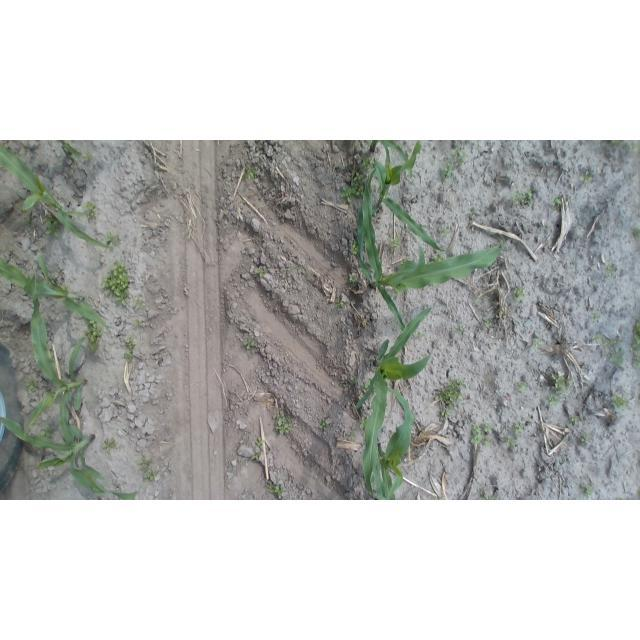Maize: (358, 207, 513, 324), (349, 297, 435, 500), (1, 387, 144, 499), (1, 143, 114, 251), (18, 302, 91, 445), (365, 142, 452, 261), (1, 252, 116, 330), (373, 385, 414, 500), (367, 140, 418, 177), (60, 141, 90, 164)
Weeds: (101, 259, 131, 305), (433, 377, 467, 417), (546, 373, 575, 408), (84, 318, 103, 354), (599, 337, 623, 364), (341, 172, 363, 201), (273, 413, 296, 438), (140, 456, 161, 483), (510, 187, 535, 207), (471, 422, 491, 446), (42, 214, 62, 238), (601, 337, 621, 356), (266, 482, 286, 499), (441, 161, 459, 179), (611, 393, 628, 410), (101, 436, 119, 452), (84, 202, 98, 222), (452, 147, 467, 165), (630, 321, 638, 351), (578, 171, 594, 186), (511, 287, 527, 302), (25, 376, 40, 392), (580, 482, 594, 499), (106, 233, 121, 248), (386, 236, 402, 250), (361, 155, 375, 171), (604, 263, 618, 278), (243, 167, 257, 181), (242, 338, 258, 350), (481, 421, 493, 437), (478, 492, 501, 500), (291, 261, 306, 273), (349, 239, 359, 256), (133, 297, 146, 310), (124, 336, 136, 350), (512, 422, 524, 436), (318, 418, 330, 432), (392, 287, 407, 298), (612, 141, 630, 150), (40, 427, 54, 438), (529, 338, 543, 349), (475, 292, 490, 302), (429, 252, 444, 262), (506, 438, 518, 450), (516, 380, 527, 393), (256, 265, 267, 278), (553, 195, 563, 209), (438, 226, 449, 238), (570, 415, 581, 426), (346, 428, 356, 440), (360, 415, 368, 430), (629, 141, 638, 154), (413, 331, 427, 339), (123, 351, 134, 361), (590, 311, 600, 322), (482, 317, 492, 328), (256, 437, 264, 450), (251, 452, 261, 462), (593, 333, 603, 343), (348, 375, 358, 385), (336, 299, 346, 309), (454, 326, 465, 335), (633, 355, 640, 369), (362, 380, 370, 392), (581, 433, 590, 443), (349, 273, 358, 283), (632, 226, 638, 240), (468, 209, 476, 219), (134, 318, 143, 326), (251, 314, 258, 322), (437, 495, 445, 500)
